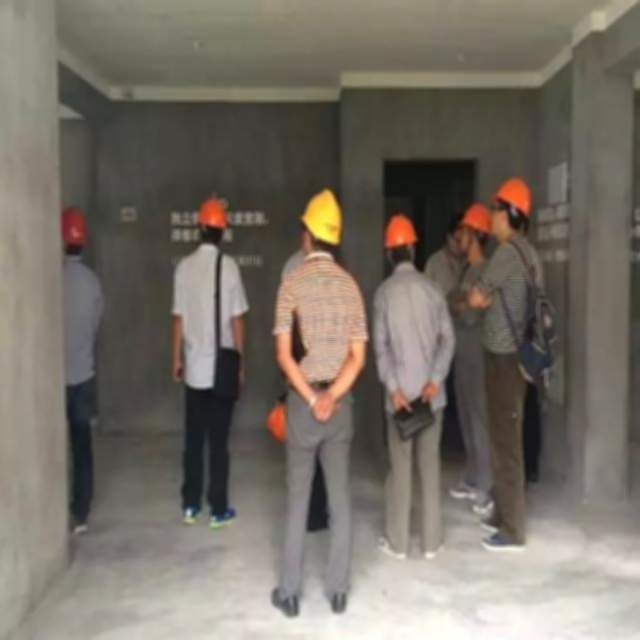Con_Casco: (302, 188, 342, 248)
Sin_Chaleco: (282, 258, 367, 394), (377, 273, 453, 403), (176, 248, 240, 363)
